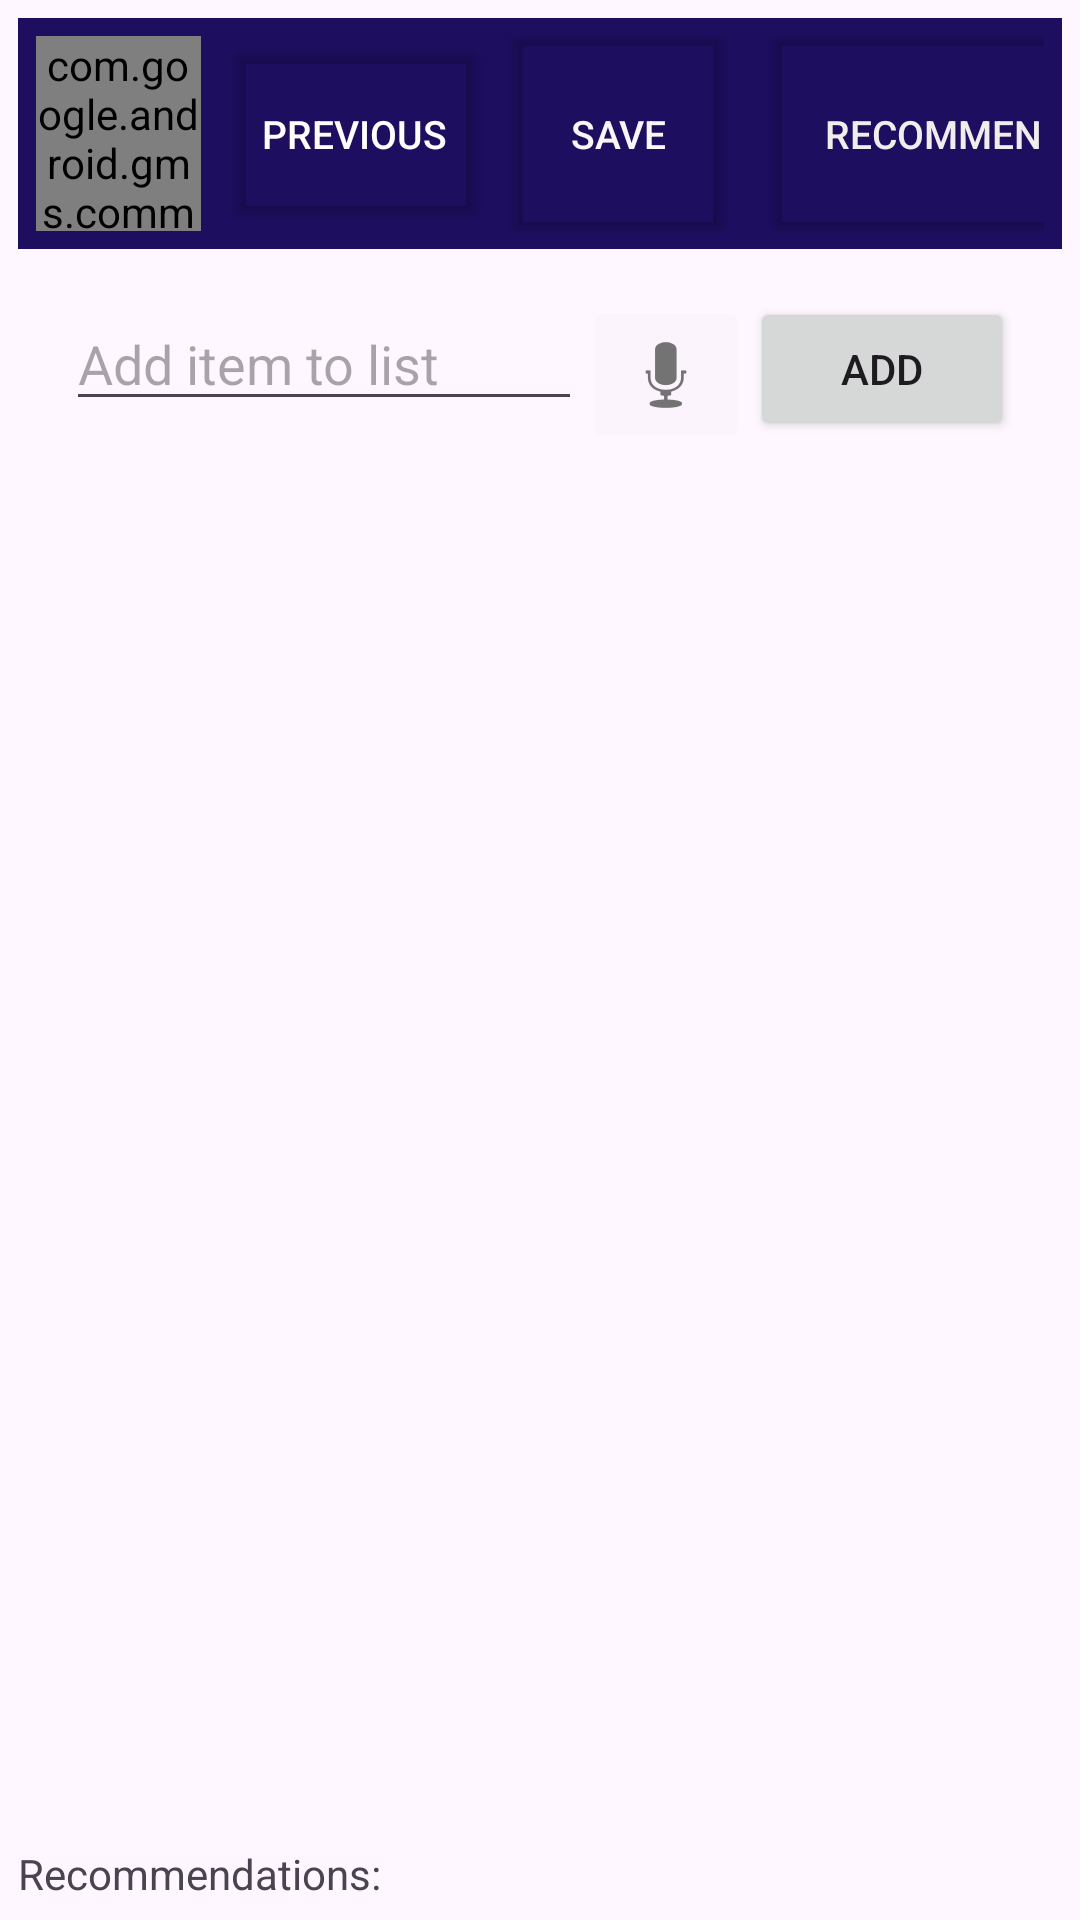

Named icons in this screenshot (1080×1920) and their centers, [x,y]:
Voice Input: [666,375]
